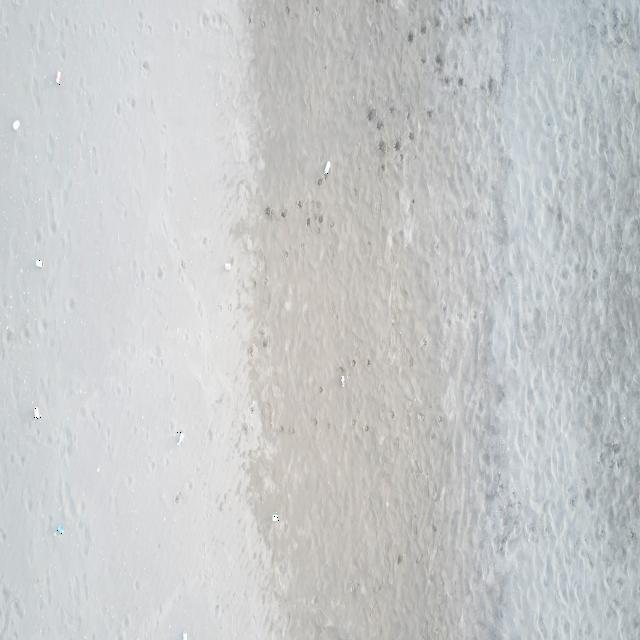tin-and-aluminum-cans: (176, 431, 185, 448), (33, 406, 41, 422), (324, 160, 331, 176), (12, 119, 21, 131), (55, 70, 62, 85), (271, 512, 279, 524), (57, 524, 65, 534), (224, 261, 231, 272), (36, 259, 44, 268), (341, 373, 345, 390), (182, 630, 188, 640)
